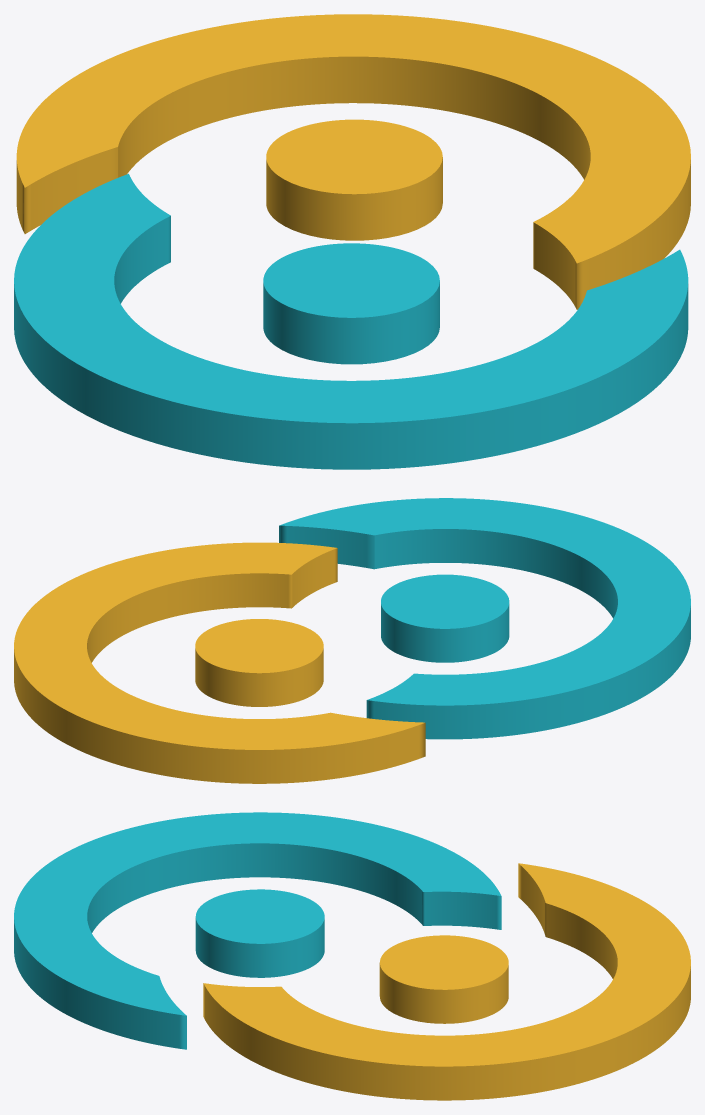
The model's file is tauri.glb.
3 renders of one model, top to bottom at view 1: azimuth 30°, elevation 25°; view 2: azimuth 150°, elevation 25°; view 3: azimuth 270°, elevation 25°, orthographic. The views are drawn at different scales.
Parts seen in each view (by area): view 1: tauri; view 2: tauri; view 3: tauri.
Boxes of the visible parts, box(x1,y1,x2,y2) form: tauri: box(14, 14, 690, 469); tauri: box(14, 498, 690, 783); tauri: box(14, 812, 690, 1100).
Bounding box in the file's own units: 3.26 × 0.2029 × 3.66.
